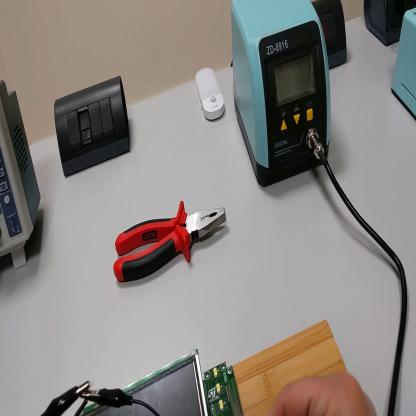hand: (273, 377, 375, 416)
low voltage board: (75, 349, 242, 415)
oscilloscope: (2, 76, 43, 277)
oscilloscope probe tip: (227, 385, 243, 416)
pliers: (114, 196, 231, 286)
socket: (314, 1, 352, 69), (364, 2, 416, 48)
welder base: (391, 10, 416, 119)
welder station: (232, 3, 336, 192)
working area: (232, 315, 357, 416)
